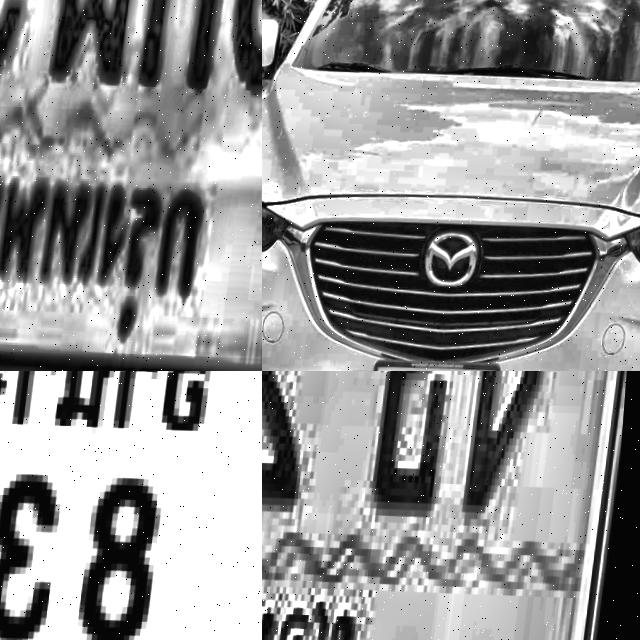license-plate: (262, 371, 640, 640), (0, 0, 262, 371), (0, 371, 262, 640)
